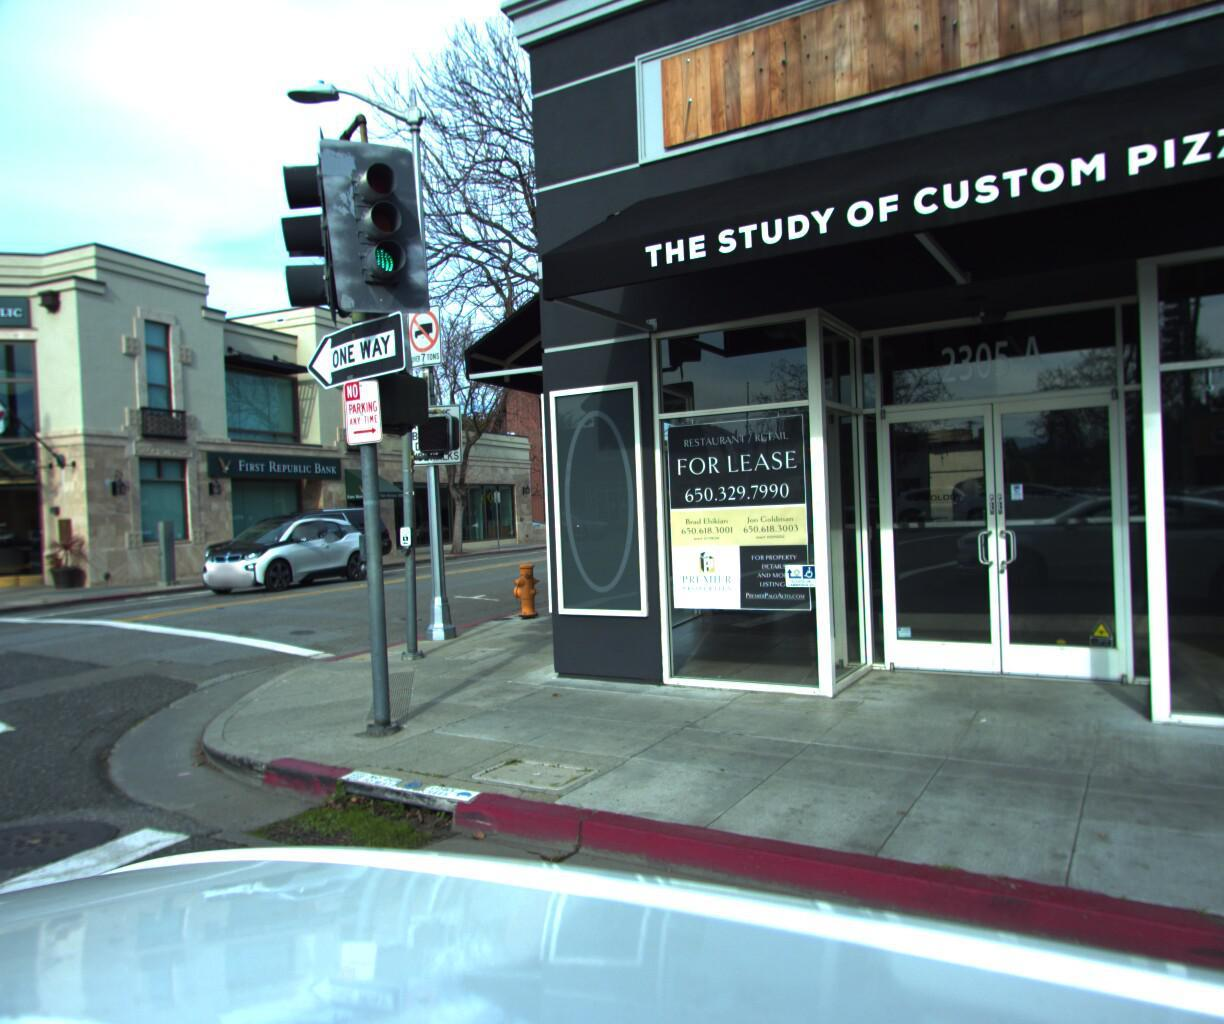car: (197, 501, 396, 586), (192, 511, 378, 591)
